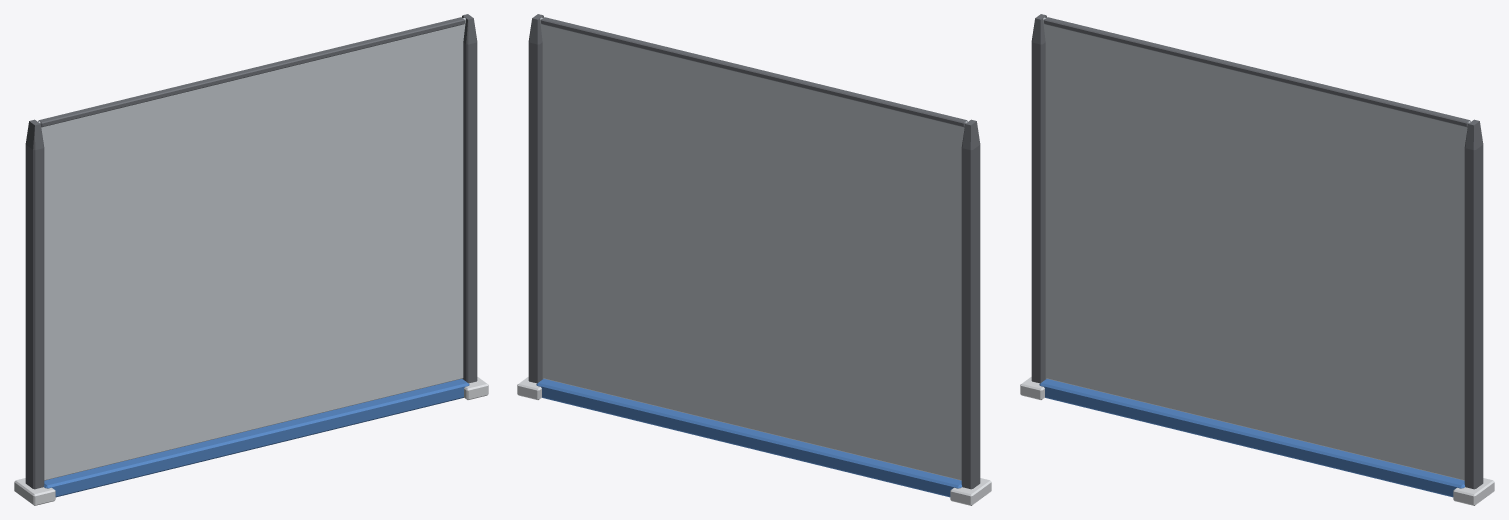
The model's file is ice-hockey-arena-and-locker-room-protective-glass-pane-997b851b__33701.glb.
3 renders of one model, left to right at view 1: azimuth 30°, elevation 25°; view 2: azimuth 150°, elevation 25°; view 3: azimuth 330°, elevation 25°, orthographic.
Visible parts, largest first — view 1: protective-glass-panel; view 2: protective-glass-panel; view 3: protective-glass-panel.
Boxes of the visible parts, bbox=[...] form: protective-glass-panel: bbox=[14, 14, 488, 505]; protective-glass-panel: bbox=[517, 14, 991, 505]; protective-glass-panel: bbox=[1020, 14, 1494, 505].
Bounding box in the file's own units: 2.04 × 1.6 × 0.1599.
